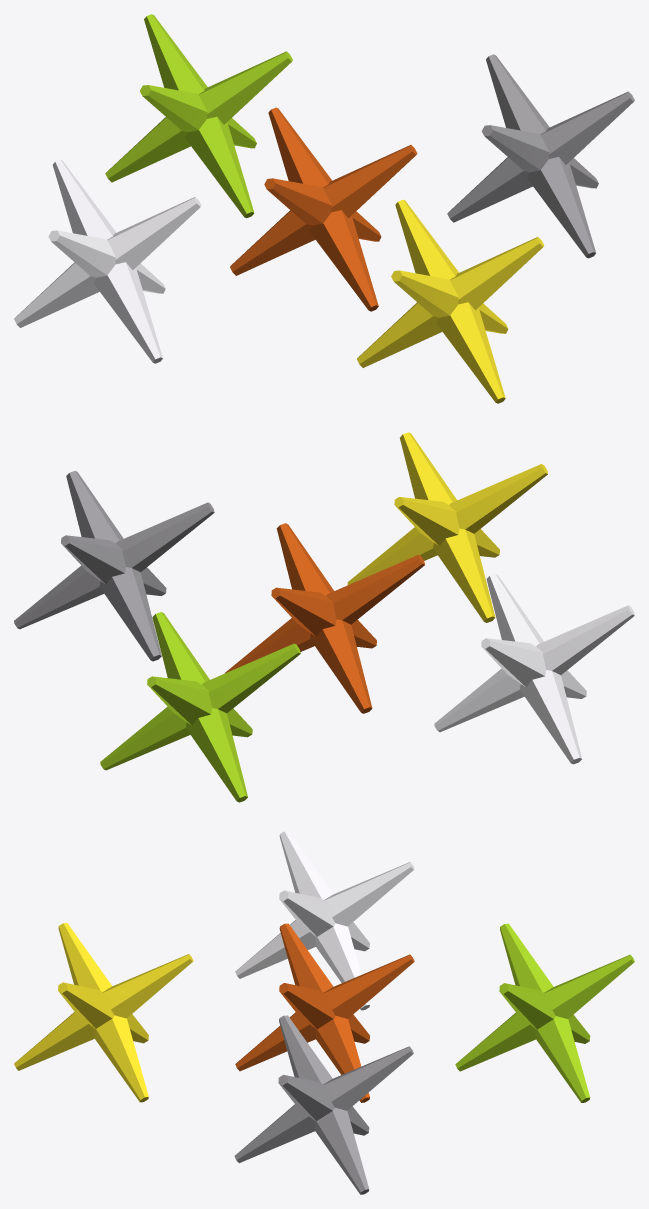
Rendered from star.dae.
3 views of the same model, one above another, from view 1: azimuth 30°, elevation 25°; view 2: azimuth 150°, elevation 25°; view 3: azimuth 270°, elevation 25° (orthographic). The views are drawn at different scales.
Visible parts, largest first — view 1: group_6 (×5), group_5 (×5), group_7 (×5), group_8 (×5), group_3 (×5); view 2: group_7 (×5), group_3 (×5), group_8 (×5), group_4 (×5), group_5 (×5); view 3: group_8 (×5), group_4 (×5), group_6 (×5), group_3 (×5), group_5 (×5).
Part boxes in pixels (box(x1,y1,x2,y2)): group_6 (×5): box(93, 116, 595, 403); group_5 (×5): box(107, 51, 634, 310); group_7 (×5): box(14, 117, 532, 367); group_8 (×5): box(52, 14, 549, 279); group_3 (×5): box(48, 85, 549, 317); group_7 (×5): box(99, 528, 581, 802); group_3 (×5): box(115, 464, 634, 713); group_8 (×5): box(61, 497, 546, 725); group_4 (×5): box(14, 527, 524, 770); group_5 (×5): box(66, 432, 543, 684); group_8 (×5): box(102, 862, 634, 1110); group_4 (×5): box(94, 923, 590, 1194); group_6 (×5): box(14, 920, 536, 1163); group_3 (×5): box(58, 831, 553, 1084); group_5 (×5): box(58, 890, 555, 1120).
Size of the model in its own units: 142 by 148 by 30.72.
